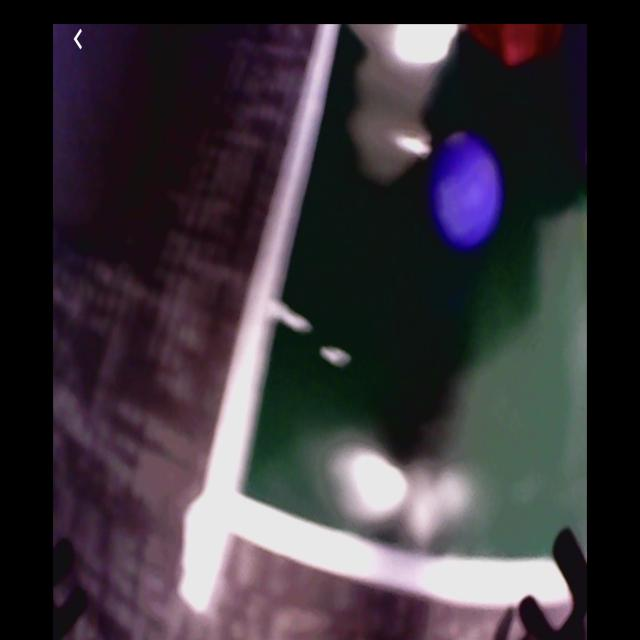ball: (430, 131, 507, 253)
